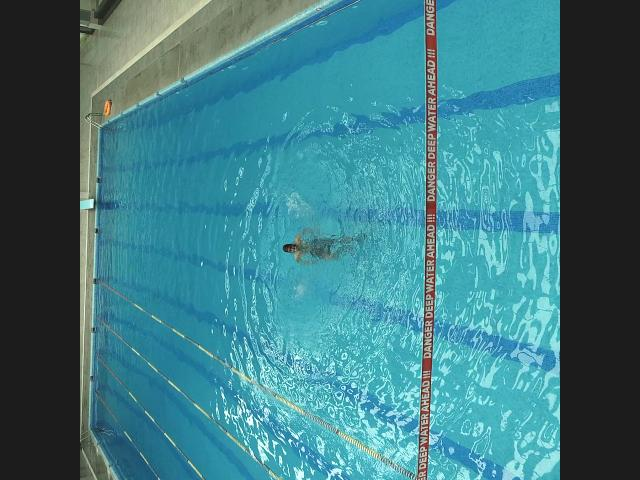drowning: (284, 226, 360, 266)
